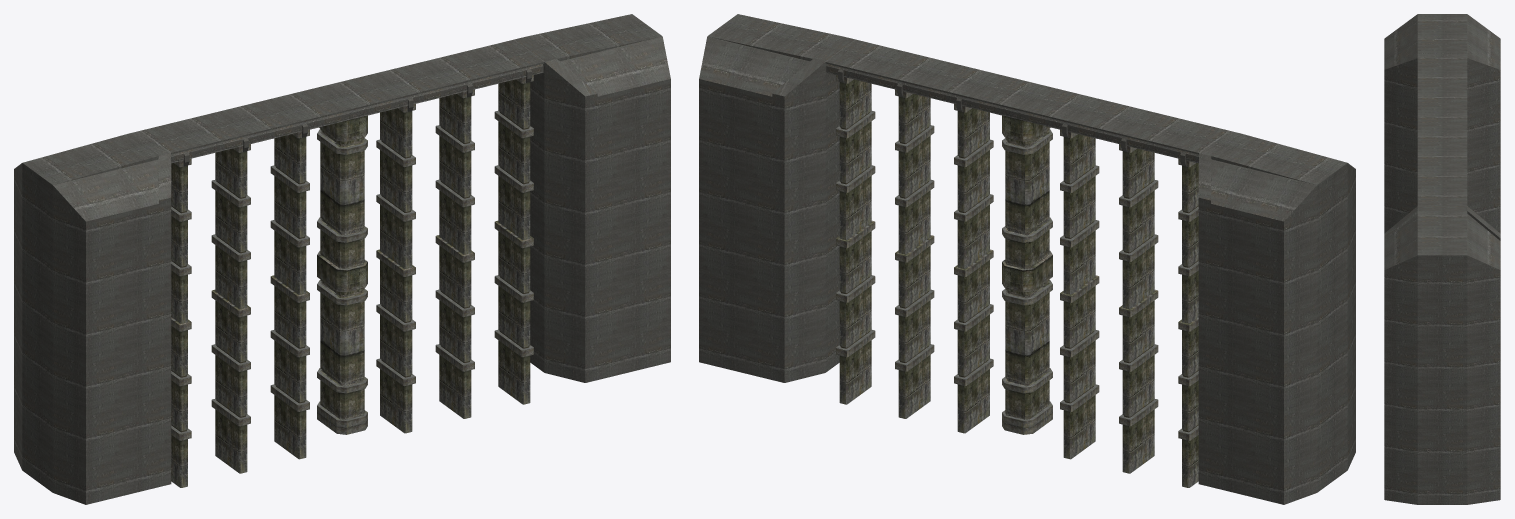
Rendered from bridge5.fbx.
The picture shows the model from 3 angles, left to right: view 1: azimuth 30°, elevation 25°; view 2: azimuth 150°, elevation 25°; view 3: azimuth 270°, elevation 25°; orthographic projection. The views are drawn at different scales.
Visible parts, largest first — view 1: Object; view 2: Object; view 3: Object.
Part boxes in pixels (bbox=[...]): Object: bbox=[14, 14, 670, 504]; Object: bbox=[699, 14, 1355, 504]; Object: bbox=[1384, 14, 1500, 504].
Bounding box in the file's own units: 19600 × 10450 × 4000.
